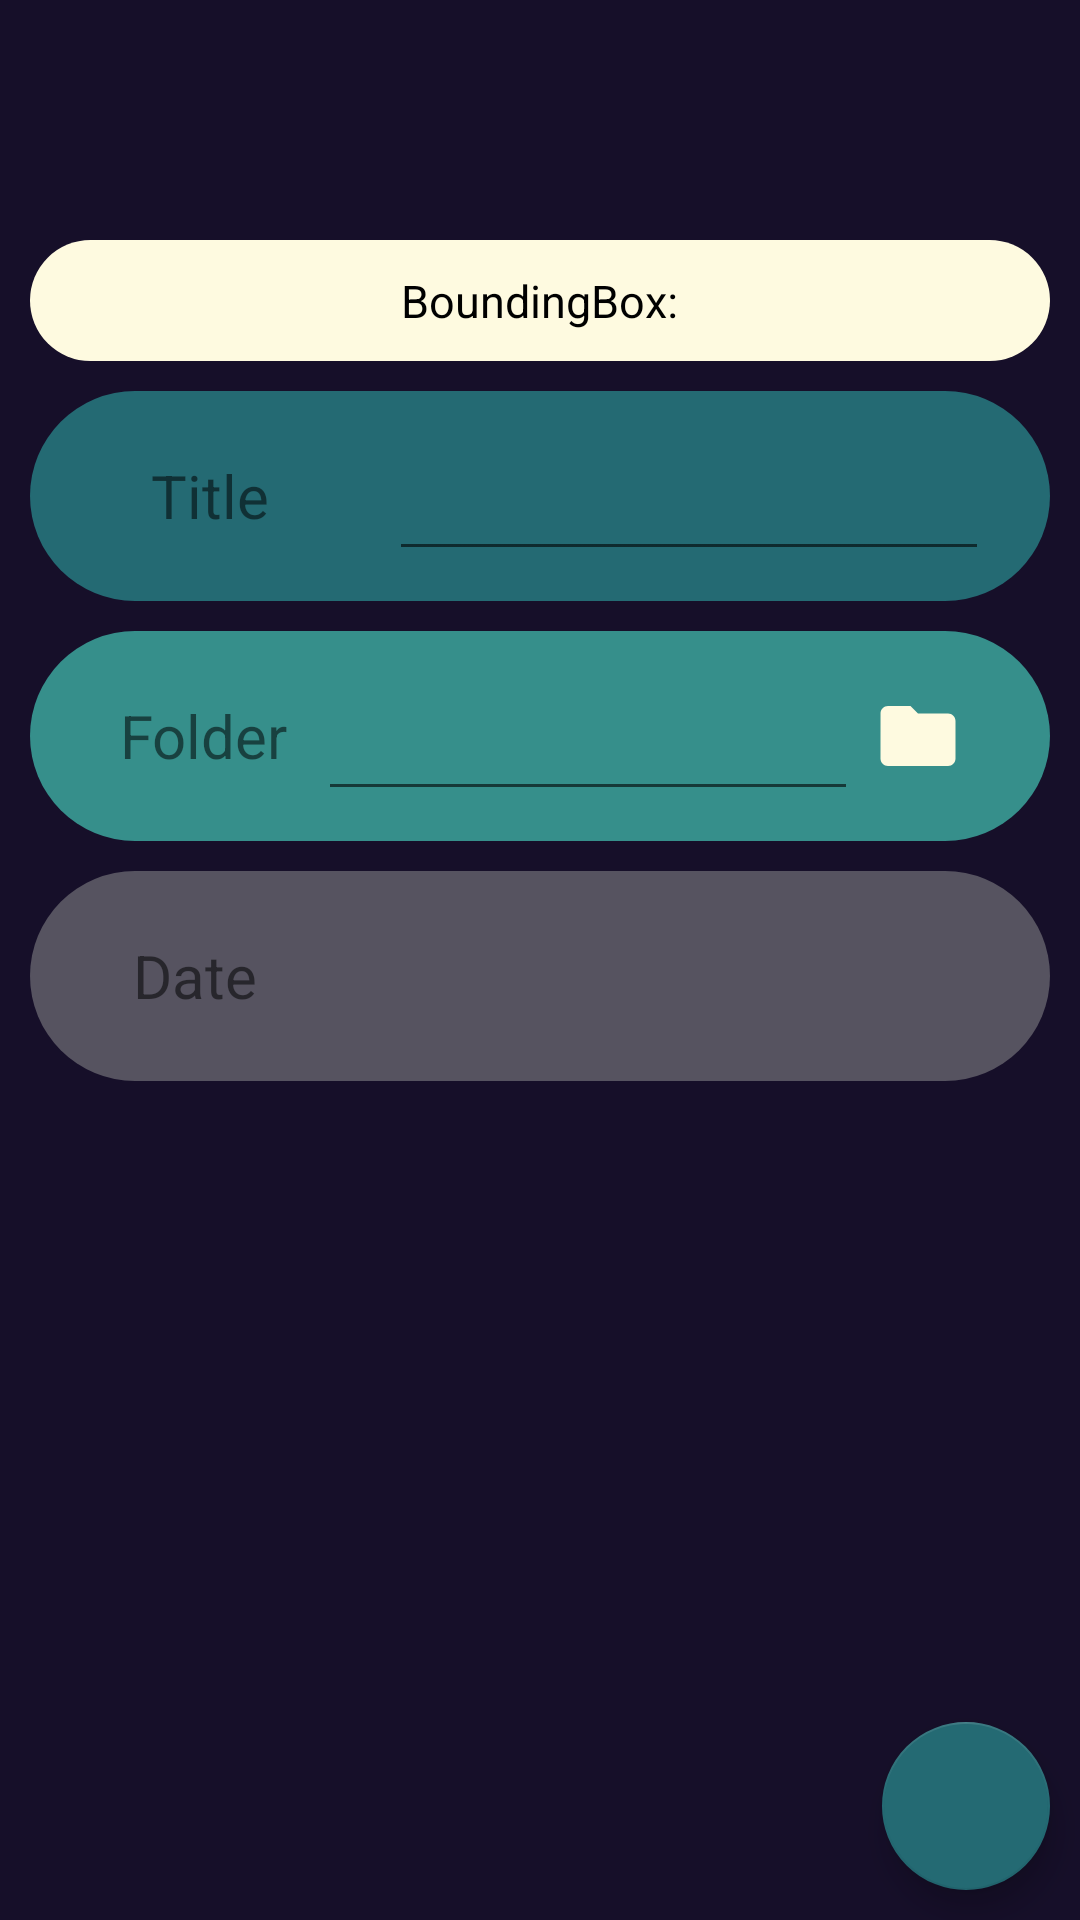

Point at icon controls on the screen. Image size 1080px x 1920px, points as point (x, y).
folder: point (918, 736)
